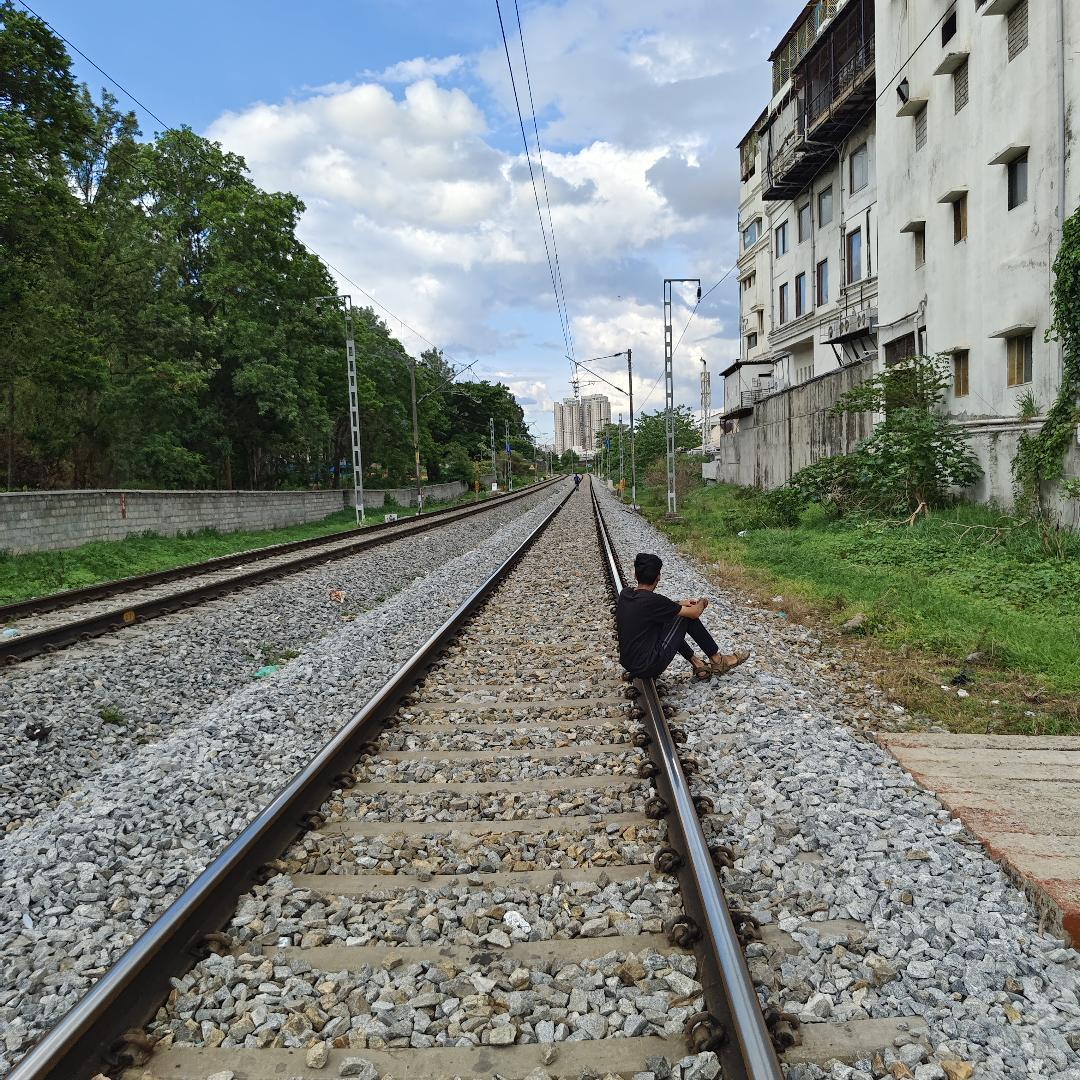sitting: (614, 550, 750, 700)
